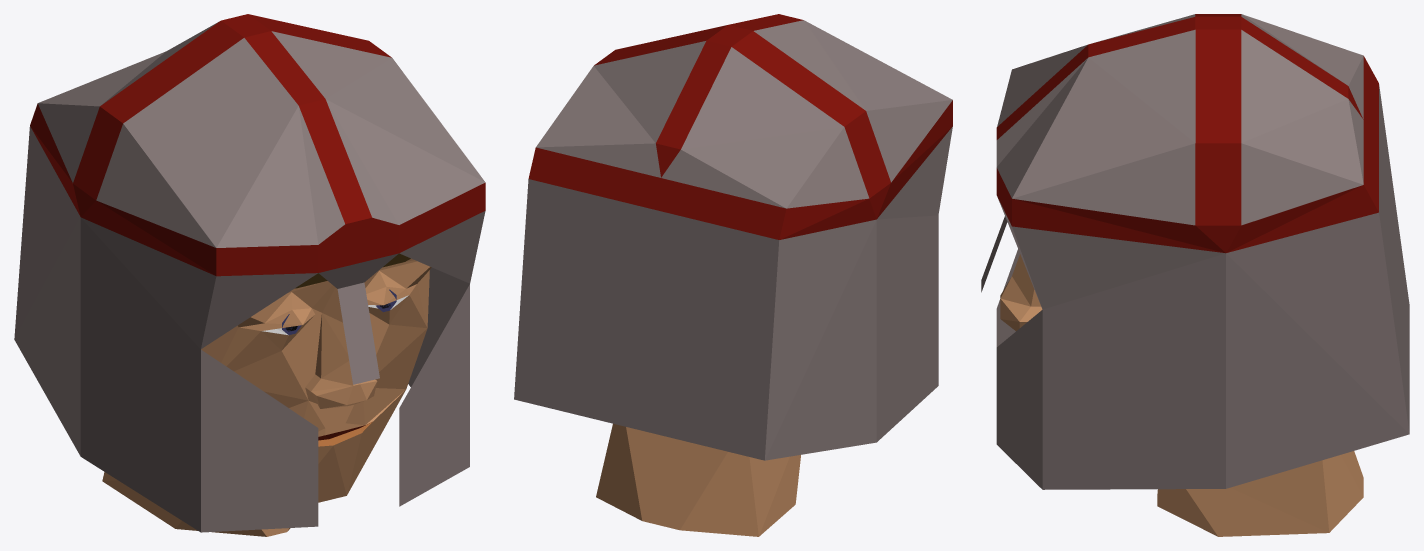
Rendered from model_66_npc_head.obj.
The picture shows the model from 3 angles, left to right: view 1: azimuth 30°, elevation 25°; view 2: azimuth 150°, elevation 25°; view 3: azimuth 270°, elevation 25°; orthographic projection. The views are drawn at different scales.
Visible parts, largest first — view 1: 66; view 2: 66; view 3: 66.
Part boxes in pixels (x1=…): 66: x1=14, y1=14, x2=485, y2=536; 66: x1=514, y1=14, x2=952, y2=536; 66: x1=981, y1=14, x2=1409, y2=536.
Bounding box in the file's own units: 96 × 138 × 112.
